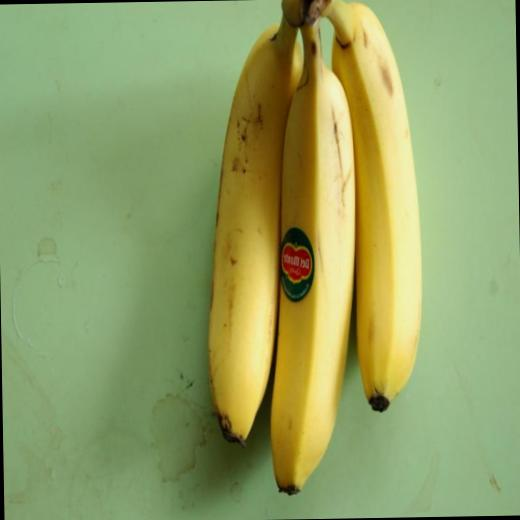Banana: (261, 12, 364, 501), (202, 25, 310, 445), (328, 0, 425, 412)
